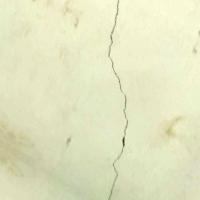crack: (94, 0, 156, 199)
